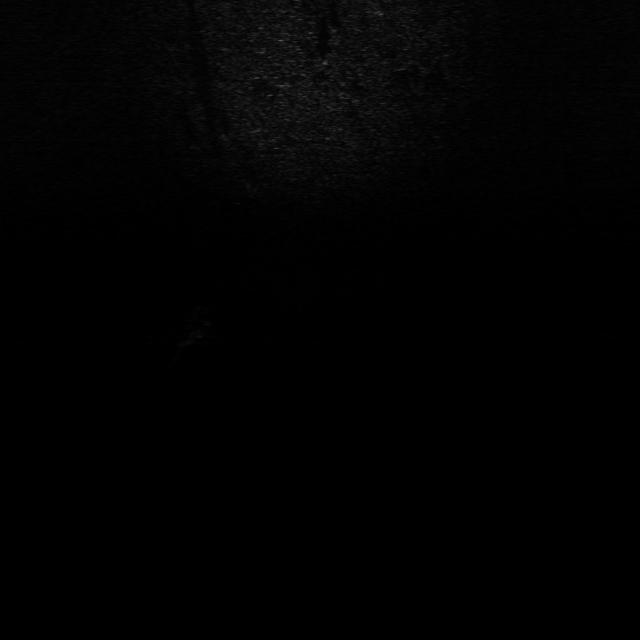human body: (168, 301, 223, 368)
